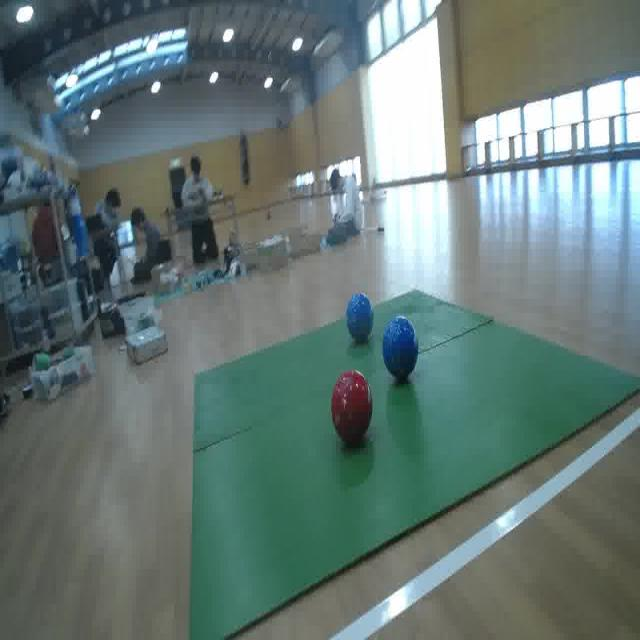blue_ball: (380, 312, 420, 379), (343, 293, 376, 345)
red_ball: (329, 366, 374, 447)
